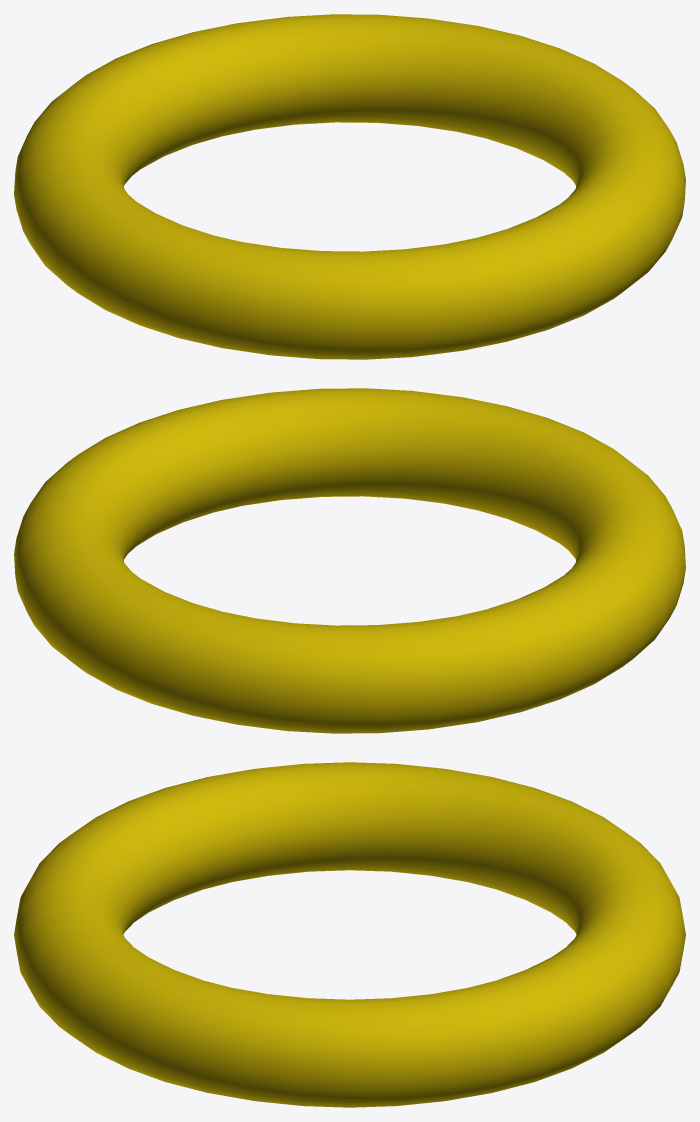
Rendered from HaloSmooth.fbx.
The picture shows the model from 3 angles, top to bottom: view 1: azimuth 30°, elevation 25°; view 2: azimuth 150°, elevation 25°; view 3: azimuth 270°, elevation 25°; orthographic projection.
Visible parts, largest first — view 1: pTorus1; view 2: pTorus1; view 3: pTorus1.
Boxes of the visible parts, x1,y1,x2,y2 form: pTorus1: (14, 14, 685, 359); pTorus1: (14, 388, 685, 733); pTorus1: (14, 762, 685, 1107).
Size of the model in its own units: 0.0673 by 0.0109 by 0.0673.
